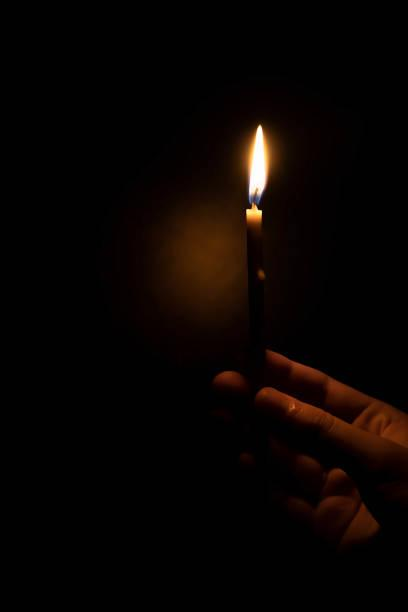Fire: (241, 115, 271, 203)
